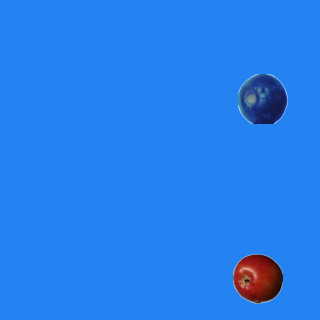Apple Braeburn: (232, 253, 282, 303)
Huckleberry: (237, 73, 287, 123)
